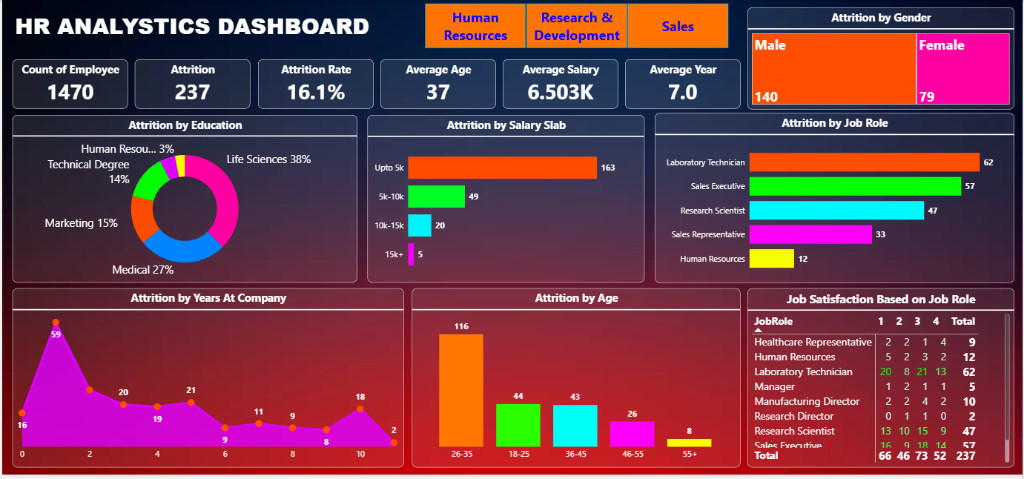

The dashboard page shown, as its layout file describes it:
{"tool":"powerbi","page":{"name":"Page 1","canvas":[2000,930],"ordinal":0},"visuals":[{"type":"card","title":"Count of Employee","fields":{"Values":["Count(HR_Analytics.EmpID)"]},"box":[20.2,117.1,226.1,96.9],"z":0},{"type":"card","title":"Attrition ","fields":{"Values":["Sum(HR_Analytics.AttritionCount)"]},"box":[260.4,117.1,226.1,96.9],"z":1000},{"type":"card","title":"Attrition Rate","fields":{"Values":["HR_Analytics.attrition_rate"]},"box":[500.7,117.1,226.1,96.9],"z":2000},{"type":"card","title":"Average Age","fields":{"Values":["Avg(HR_Analytics.Age)"]},"box":[740.9,117.1,226.1,96.9],"z":3000},{"type":"card","title":"Average Salary","fields":{"Values":["Avg(HR_Analytics.MonthlyIncome)"]},"box":[981.2,117.1,226.1,96.9],"z":4000},{"type":"card","title":"Average Year","fields":{"Values":["Avg(HR_Analytics.YearsAtCompany)"]},"box":[1221.4,117.1,226.1,96.9],"z":5000},{"type":"slicer","title":"Department","fields":{"Values":["HR_Analytics.Department"]},"box":[803.5,0,644,100.9],"z":6000},{"type":"textbox","box":[20.2,14.1,720.7,78.7],"z":7000},{"type":"treemap","title":"Attrition by Gender","fields":{"Group":["HR_Analytics.Gender"],"Values":["Sum(HR_Analytics.AttritionCount)"]},"box":[1461.7,14.1,522.9,199.9],"z":8000},{"type":"donutChart","title":"Attrition by Education","fields":{"Category":["HR_Analytics.EducationField"],"Y":["Sum(HR_Analytics.AttritionCount)"]},"box":[20.2,226.1,676.3,329.1],"z":9000},{"type":"pivotTable","title":"Job Satisfaction Based on Job Role","fields":{"Rows":["HR_Analytics.JobRole"],"Columns":["HR_Analytics.JobSatisfaction"],"Values":["Sum(HR_Analytics.AttritionCount)"]},"box":[1461.7,565.3,522.9,351.3],"z":10000},{"type":"areaChart","title":"Attrition by Years At Company","fields":{"Category":["HR_Analytics.YearsAtCompany"],"Y":["Sum(HR_Analytics.AttritionCount)"]},"box":[20.2,565.3,767.2,351.3],"z":11000},{"type":"columnChart","title":"Attrition by Age","fields":{"Category":["HR_Analytics.AgeGroup"],"Y":["Sum(HR_Analytics.AttritionCount)"]},"box":[803.5,565.3,644,351.3],"z":12000},{"type":"barChart","title":"Attrition by Salary Slab","fields":{"Category":["HR_Analytics.SalarySlab"],"Y":["Sum(HR_Analytics.AttritionCount)"]},"box":[716.7,226.1,543.1,329.1],"z":13000},{"type":"barChart","title":"Attrition by Job Role","fields":{"Y":["Sum(HR_Analytics.AttritionCount)"],"Category":["HR_Analytics.JobRole"]},"box":[1280,222.1,704.6,333.1],"z":14000}]}

Visuals, with their boxes in screenshot pixels (x1, y1, x2, y2), scaled from the page's 2000x930 canvas onto the 1024x479 screenshot:
"Count of Employee" card: [left=10, top=60, right=126, bottom=110]
"Attrition " card: [left=133, top=60, right=249, bottom=110]
"Attrition Rate" card: [left=256, top=60, right=372, bottom=110]
"Average Age" card: [left=379, top=60, right=495, bottom=110]
"Average Salary" card: [left=502, top=60, right=618, bottom=110]
"Average Year" card: [left=625, top=60, right=741, bottom=110]
"Department" slicer: [left=411, top=0, right=741, bottom=52]
textbox: [left=10, top=7, right=379, bottom=48]
"Attrition by Gender" treemap: [left=748, top=7, right=1016, bottom=110]
"Attrition by Education" donutChart: [left=10, top=116, right=357, bottom=286]
"Job Satisfaction Based on Job Role" pivotTable: [left=748, top=291, right=1016, bottom=472]
"Attrition by Years At Company" areaChart: [left=10, top=291, right=403, bottom=472]
"Attrition by Age" columnChart: [left=411, top=291, right=741, bottom=472]
"Attrition by Salary Slab" barChart: [left=367, top=116, right=645, bottom=286]
"Attrition by Job Role" barChart: [left=655, top=114, right=1016, bottom=286]
